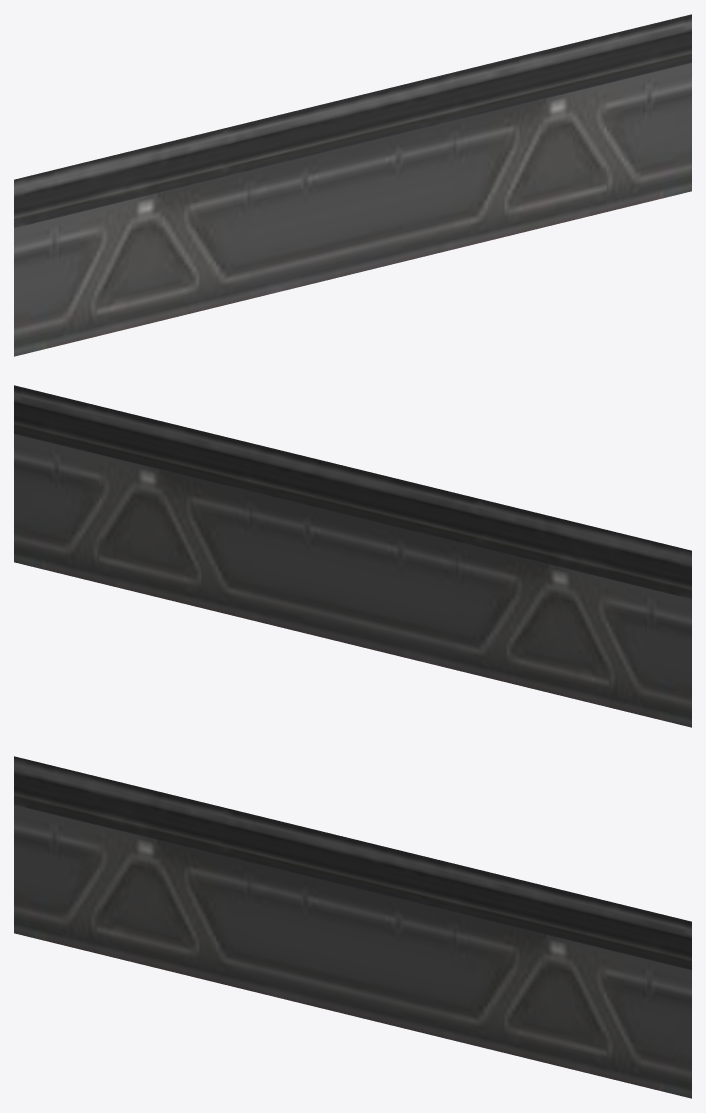
File: sf_low_wall_triangles.glb
The picture shows the model from 3 angles, top to bottom: view 1: azimuth 30°, elevation 25°; view 2: azimuth 150°, elevation 25°; view 3: azimuth 330°, elevation 25°; orthographic projection.
Parts seen in each view (by area): view 1: ShortWall_Triangles_Straight; view 2: ShortWall_Triangles_Straight; view 3: ShortWall_Triangles_Straight.
Part boxes in pixels (x1=…): ShortWall_Triangles_Straight: x1=14, y1=14, x2=691, y2=356; ShortWall_Triangles_Straight: x1=14, y1=385, x2=691, y2=727; ShortWall_Triangles_Straight: x1=14, y1=756, x2=691, y2=1098.
Bounding box in the file's own units: 4 × 0.9981 × 4.77e-07.
1 material, 1 textured.
